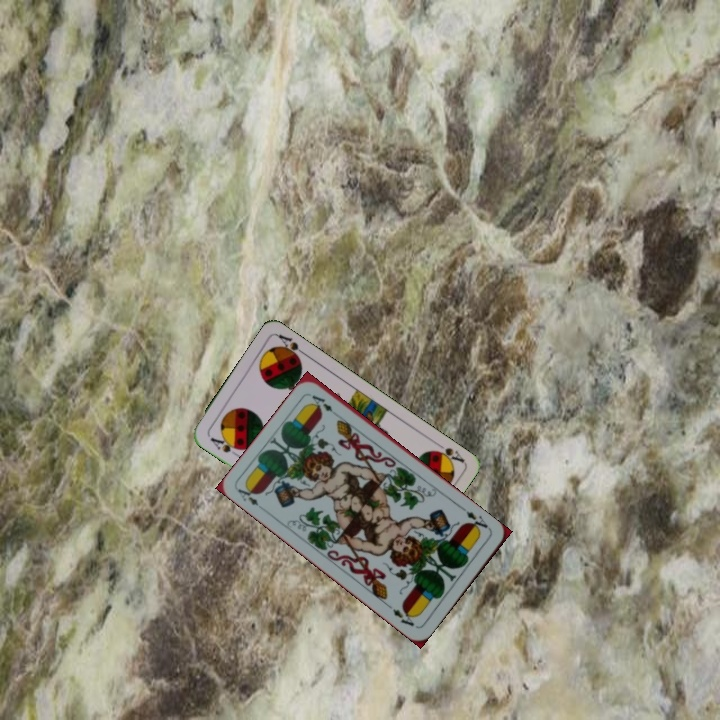EA: (458, 503, 493, 536), (234, 482, 261, 508)
SA: (426, 437, 467, 468), (206, 433, 244, 459)
